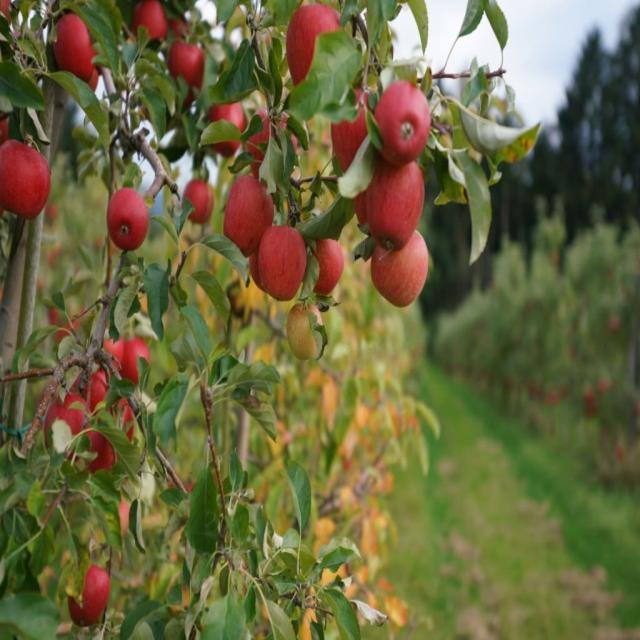Red Apple: (367, 152, 423, 245), (291, 7, 347, 91), (374, 225, 430, 304), (377, 81, 429, 162), (2, 142, 52, 218), (253, 105, 298, 183), (227, 179, 272, 254), (336, 91, 384, 159), (261, 229, 305, 298), (51, 395, 89, 458), (108, 189, 149, 245), (57, 19, 96, 75), (71, 570, 109, 626), (168, 40, 209, 90), (286, 302, 320, 358), (212, 100, 245, 151), (314, 241, 345, 292), (82, 374, 117, 418), (87, 426, 116, 474), (140, 4, 168, 46), (113, 399, 142, 437), (122, 342, 148, 382), (185, 180, 209, 219), (97, 334, 123, 364), (55, 307, 78, 339), (77, 61, 100, 92), (164, 15, 190, 39), (1, 116, 15, 144), (1, 1, 10, 17)
